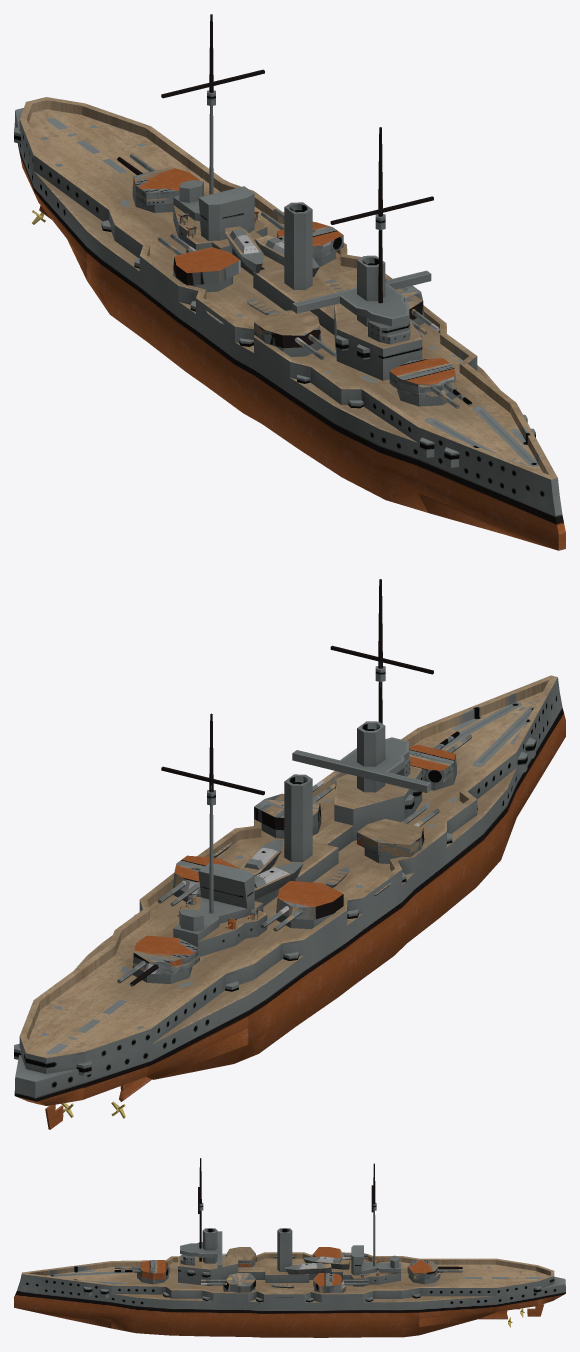
The model's file is dreadnought.dae.
3 renders of one model, top to bottom at view 1: azimuth 30°, elevation 25°; view 2: azimuth 150°, elevation 25°; view 3: azimuth 270°, elevation 25°, orthographic. The views are drawn at different scales.
Visible parts, largest first — view 1: SMS_Nassau_Hull; view 2: SMS_Nassau_Hull; view 3: SMS_Nassau_Hull.
Boxes of the visible parts, x1=… form: SMS_Nassau_Hull: x1=14, y1=14, x2=565, y2=550; SMS_Nassau_Hull: x1=14, y1=579, x2=565, y2=1129; SMS_Nassau_Hull: x1=14, y1=1158, x2=565, y2=1337.
Size of the model in its own units: 14.85 by 81.24 by 26.04.
1 material, 1 textured.
